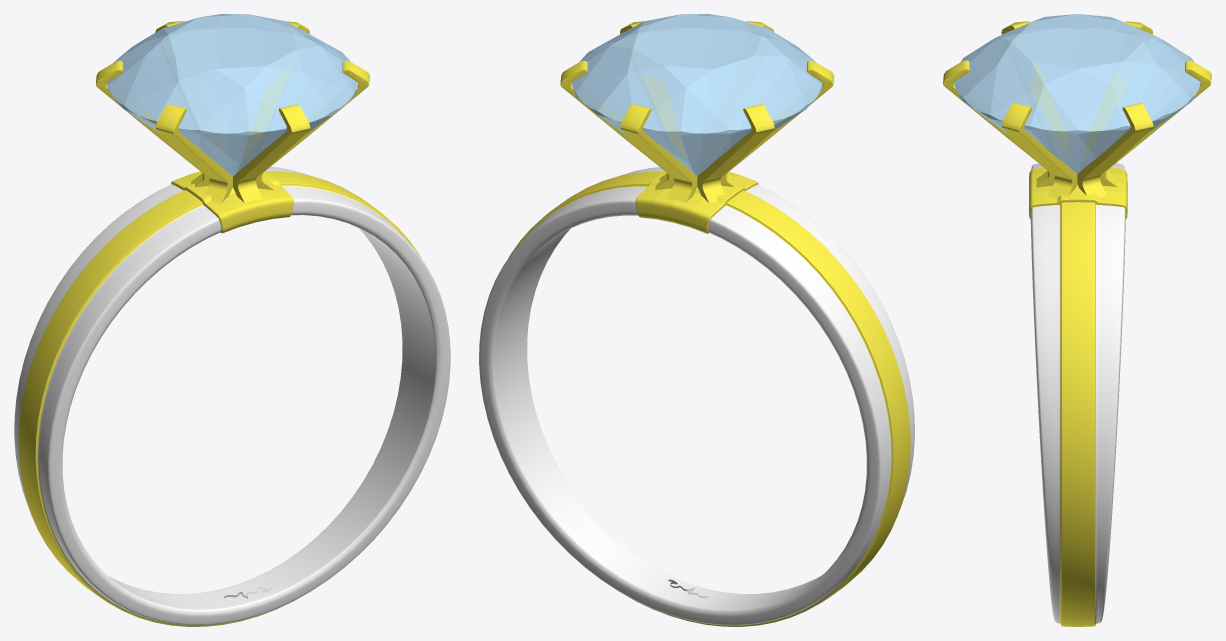
The model's file is diamond_ring.glb.
3 renders of one model, left to right at view 1: azimuth 30°, elevation 25°; view 2: azimuth 150°, elevation 25°; view 3: azimuth 270°, elevation 25°, orthographic.
Visible parts, largest first — view 1: Object_4.001, Object_5.001, Object_6; view 2: Object_4.001, Object_5.001, Object_6; view 3: Object_6, Object_5.001, Object_4.001.
Part boxes in pixels (x1,y1,x2,y2): Object_4.001: [14, 167, 450, 626]; Object_5.001: [107, 14, 358, 176]; Object_6: [18, 21, 421, 626]; Object_4.001: [479, 167, 914, 626]; Object_5.001: [571, 14, 822, 176]; Object_6: [508, 21, 910, 626]; Object_6: [943, 21, 1211, 626]; Object_5.001: [954, 14, 1200, 173]; Object_4.001: [1030, 163, 1125, 623].
Bounding box in the file's own units: 0.3466 × 0.4613 × 0.1995.
